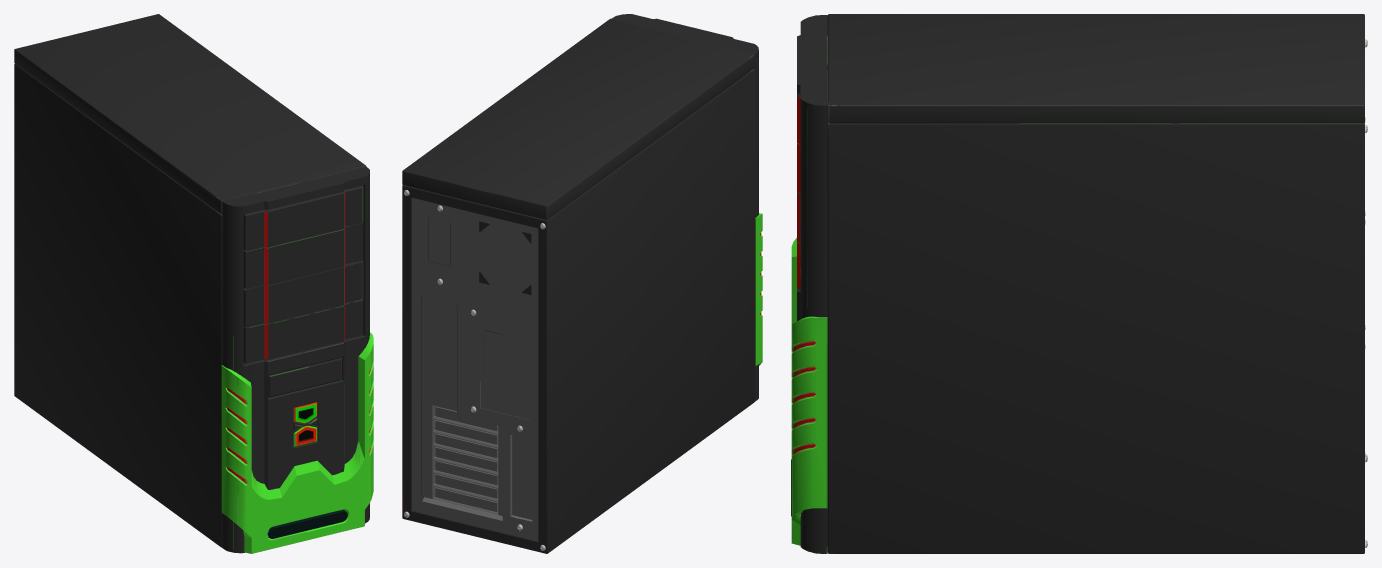
Rendered from device.fbx.
3 views of the same model, side by side, from view 1: azimuth 30°, elevation 25°; view 2: azimuth 150°, elevation 25°; view 3: azimuth 270°, elevation 25° (orthographic). The views are drawn at different scales.
Visible parts, largest first — view 1: case; view 2: case; view 3: case.
Boxes of the visible parts, <box> form: case: <box>14,14,373,553</box>; case: <box>402,14,762,553</box>; case: <box>791,14,1367,553</box>.
Bounding box in the file's own units: 17.99 × 41.1 × 47.81.
Materials: 1 (1 with a texture image).
